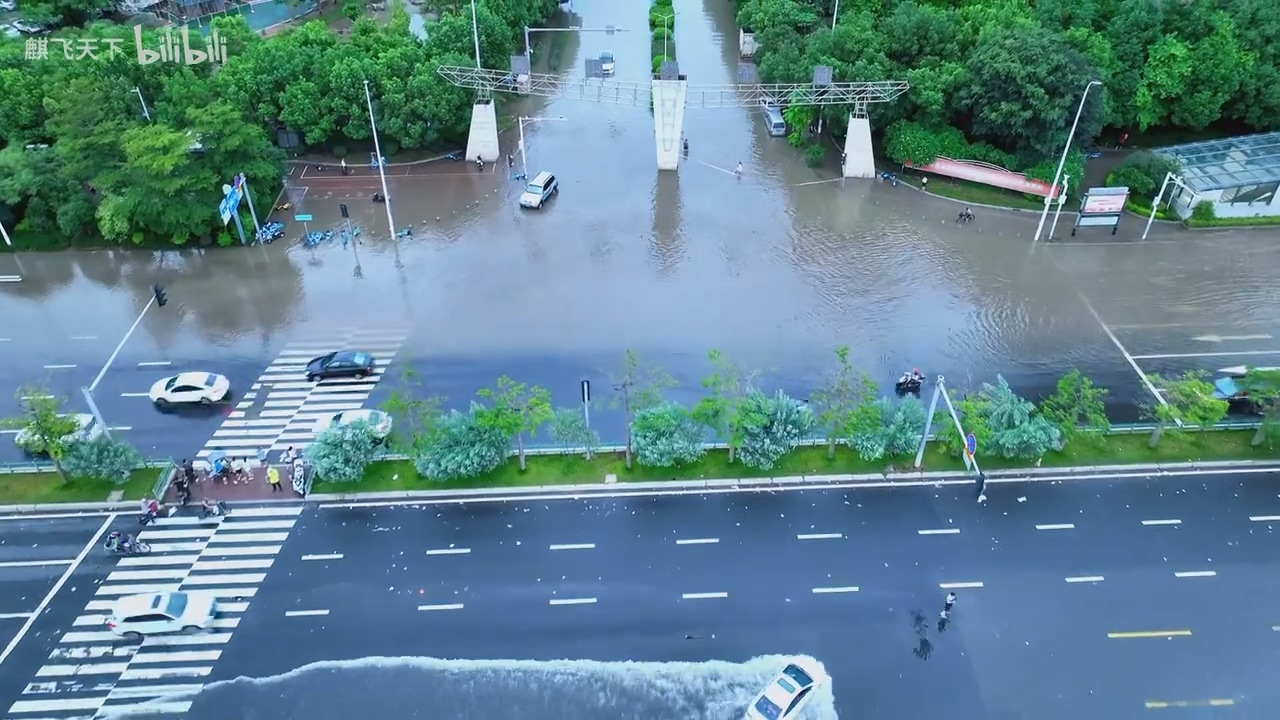puddle: (5, 238, 1280, 368)
